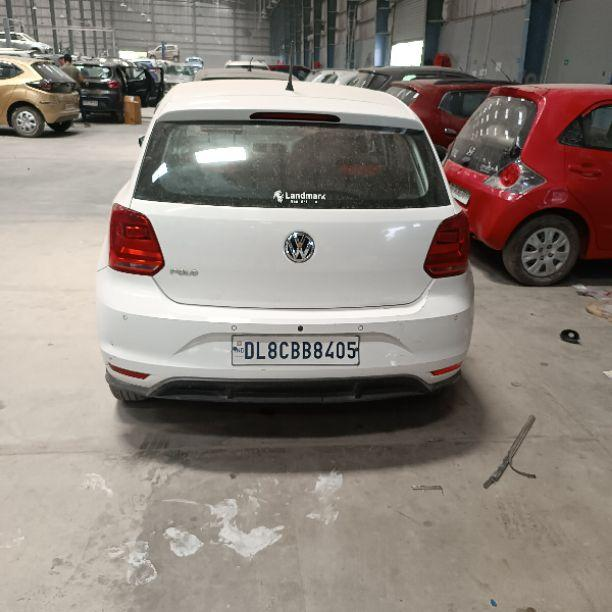license_plate: (229, 333, 361, 366)
